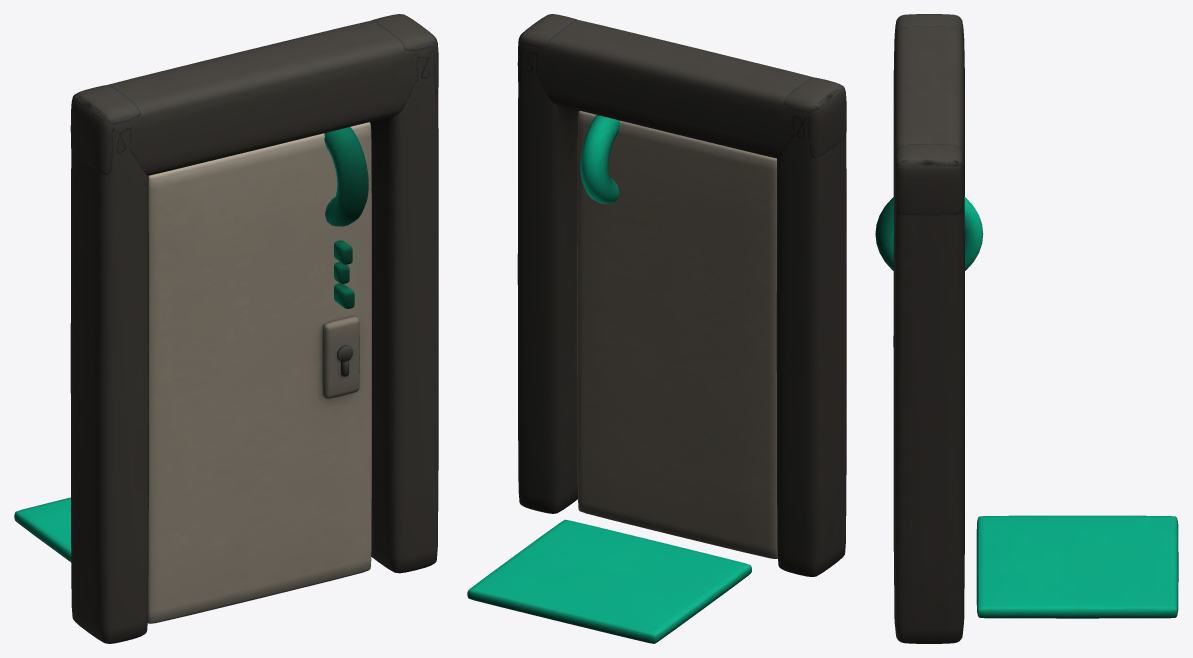
File: keys.glb
3 renders of one model, left to right at view 1: azimuth 30°, elevation 25°; view 2: azimuth 150°, elevation 25°; view 3: azimuth 270°, elevation 25°, orthographic. The views are drawn at different scales.
Visible parts, largest first — view 1: Frame_mesh, Door_mesh, Key_mesh, Inside_mesh; view 2: Frame_mesh, Door_mesh, Inside_mesh, Key_mesh; view 3: Frame_mesh, Inside_mesh, Key_mesh.
Part boxes in pixels (x1,y1,x2,y2): Frame_mesh: (70,14,438,643); Door_mesh: (147,122,371,623); Key_mesh: (324,127,368,308); Inside_mesh: (14,497,71,562); Frame_mesh: (517,14,846,576); Door_mesh: (577,110,777,558); Inside_mesh: (467,519,751,643); Key_mesh: (580,115,619,203); Frame_mesh: (893,14,964,643); Inside_mesh: (976,515,1178,618); Key_mesh: (875,197,983,346).
Size of the model in its own units: 1.6 by 2.4 by 1.35.
1 material, 1 textured.
